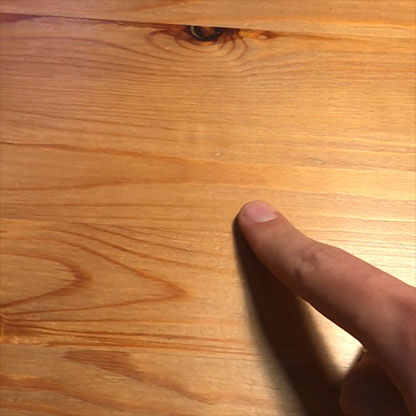fingertip: (231, 190, 287, 235)
